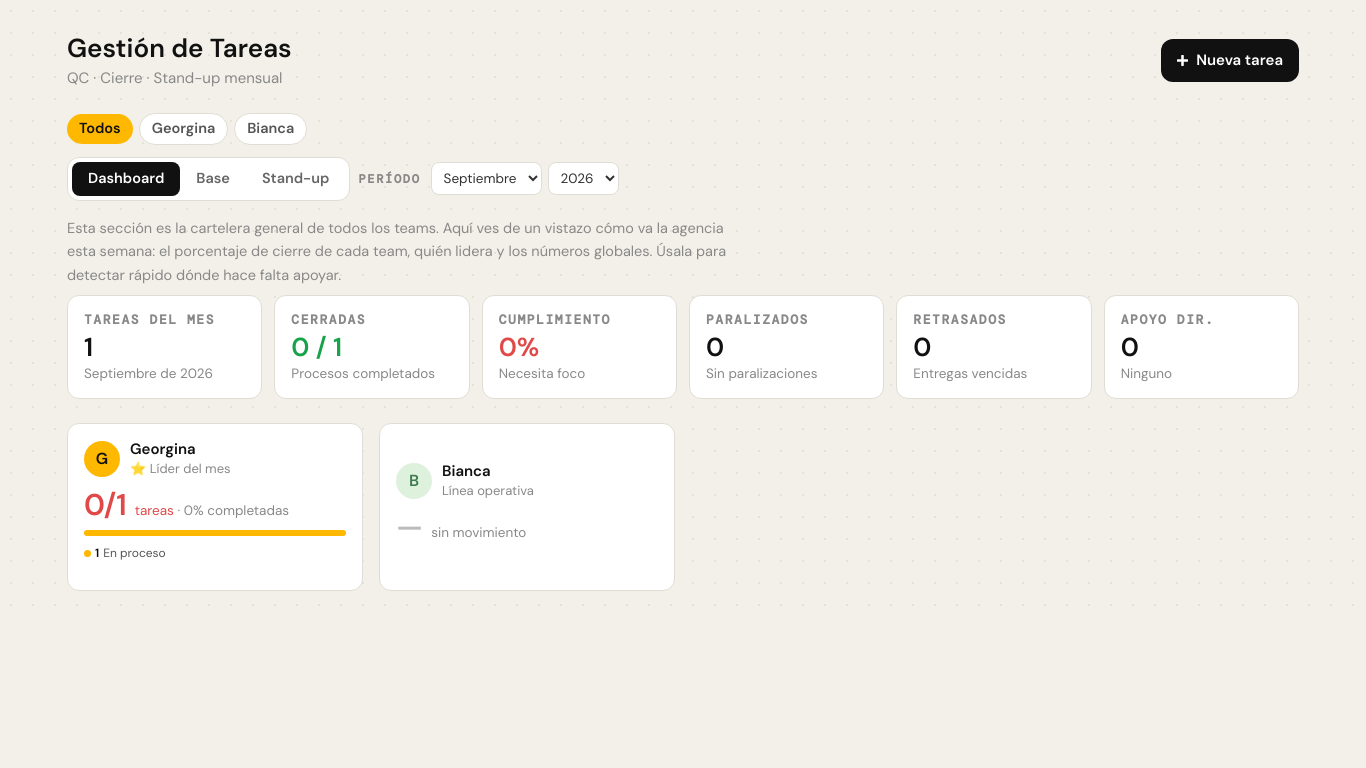
Test case: TareasPage › dashboard KPI cards navigate to Base › "Retrasados" opens Base filtered by Alerta: Retrasadas
This screenshot has width=1366, height=768.
Expected: the text "Cumplimiento" is shown, [499,311,611,328]
Click the text "Retrasados" at (960, 320), box [913,311,1007,328]
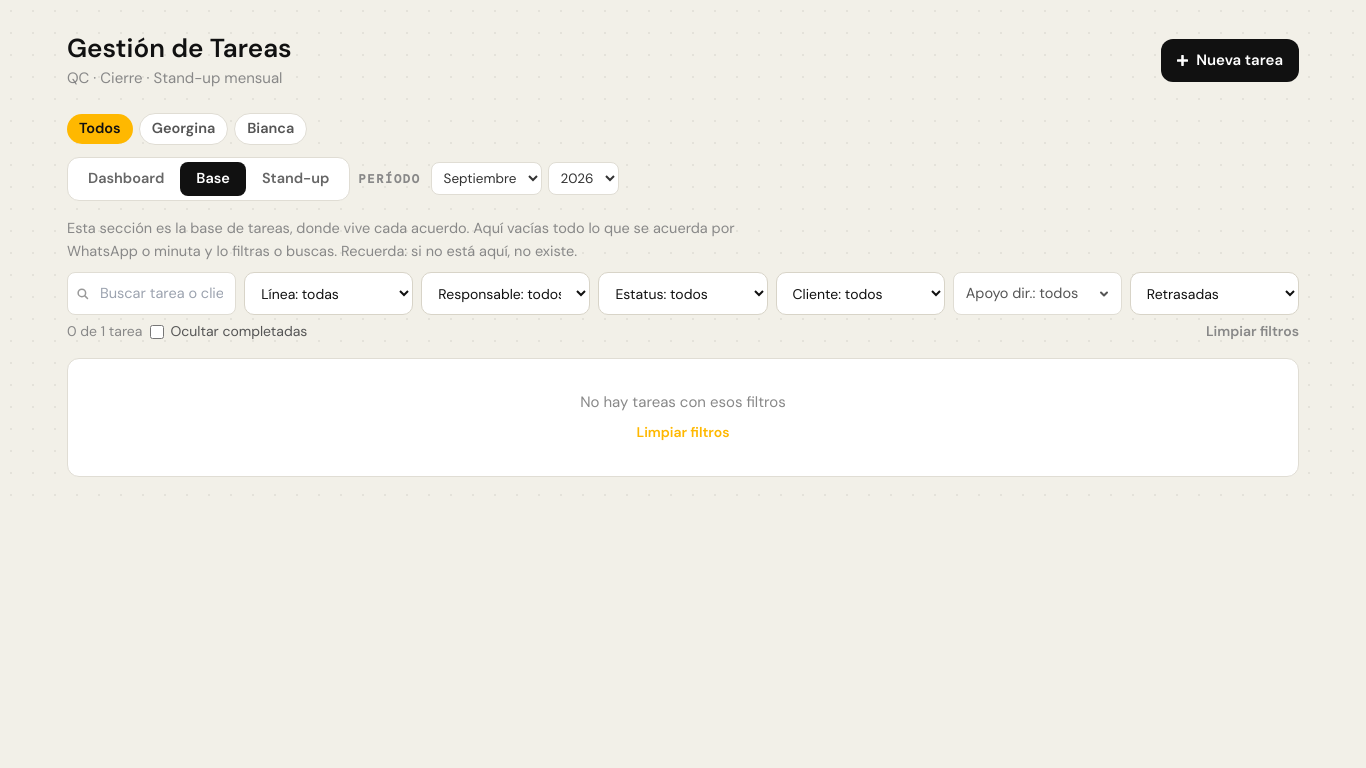
Result: the 7th dropdown showing "Retrasadas" is shown at [1130,272,1299,315]
